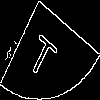T: (25, 25, 62, 81)
